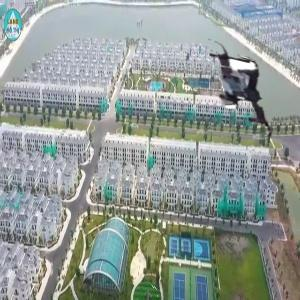drone: (195, 46, 290, 141)
